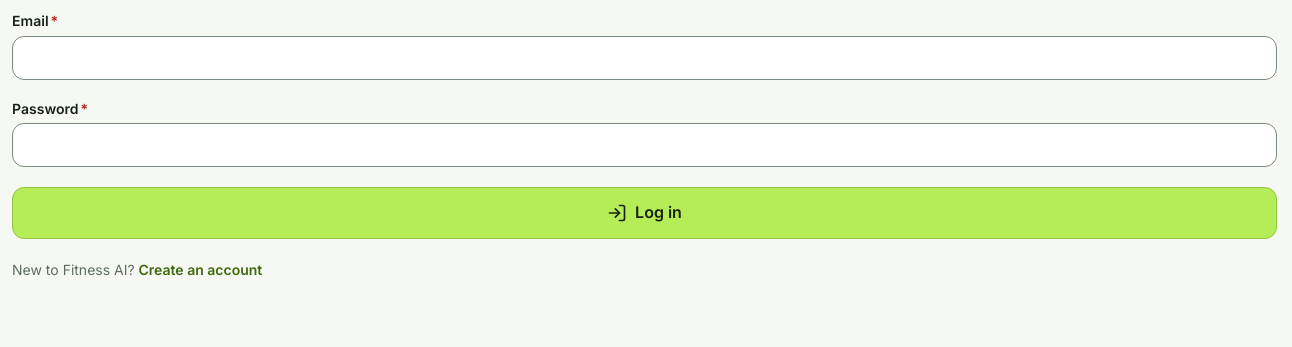
Test: LoginForm › validates required fields locally and focuses the first problem
Click the button "Log in". click: (644,213)
box: [12,187,1277,239]
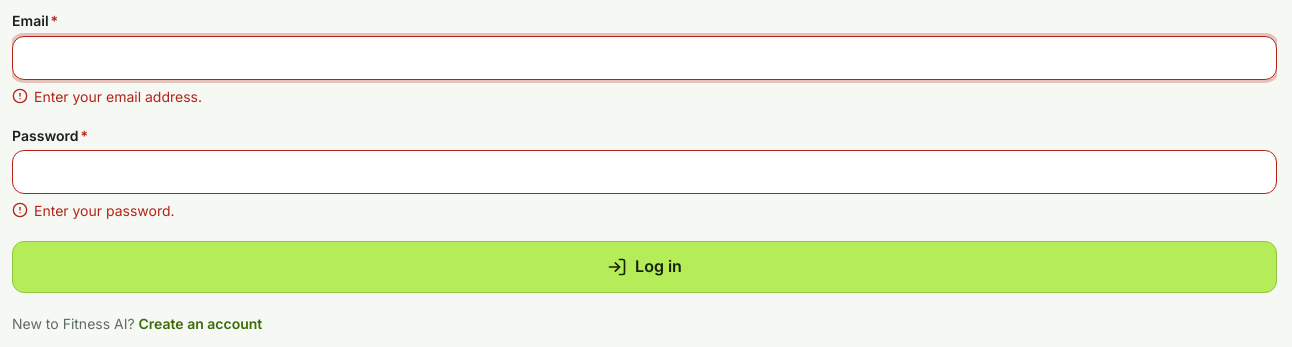
Now the text "Enter your email address." is shown, box [34,86,202,106]
Now the text "Enter your password." is shown, box [34,200,175,221]
